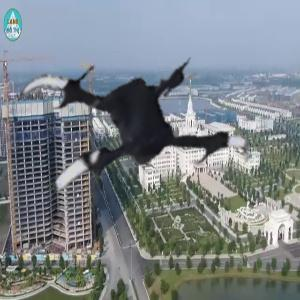drone: (7, 19, 248, 260)
